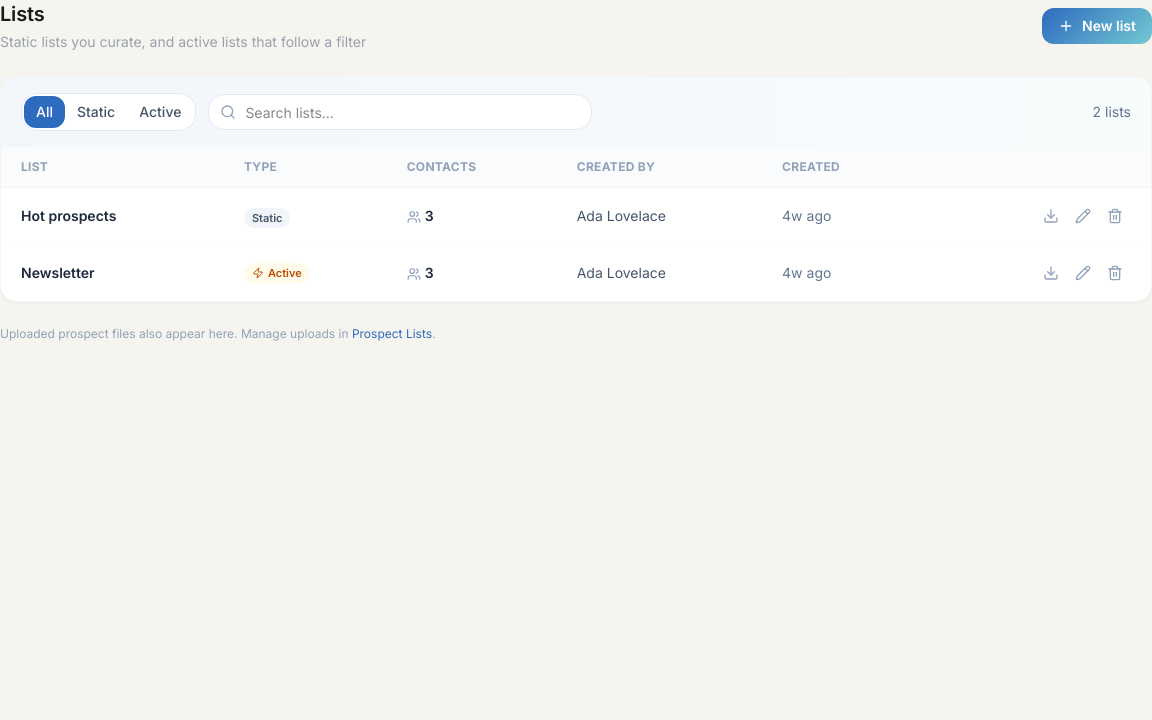
Test: Lists page › opens the new-list dialog
The width and height of the screenshot is (1152, 720).
Expected: the text "Hot prospects" is shown, [21,207,116,224]
Click the button "New list" at (1097, 26), box [1042,8,1151,44]
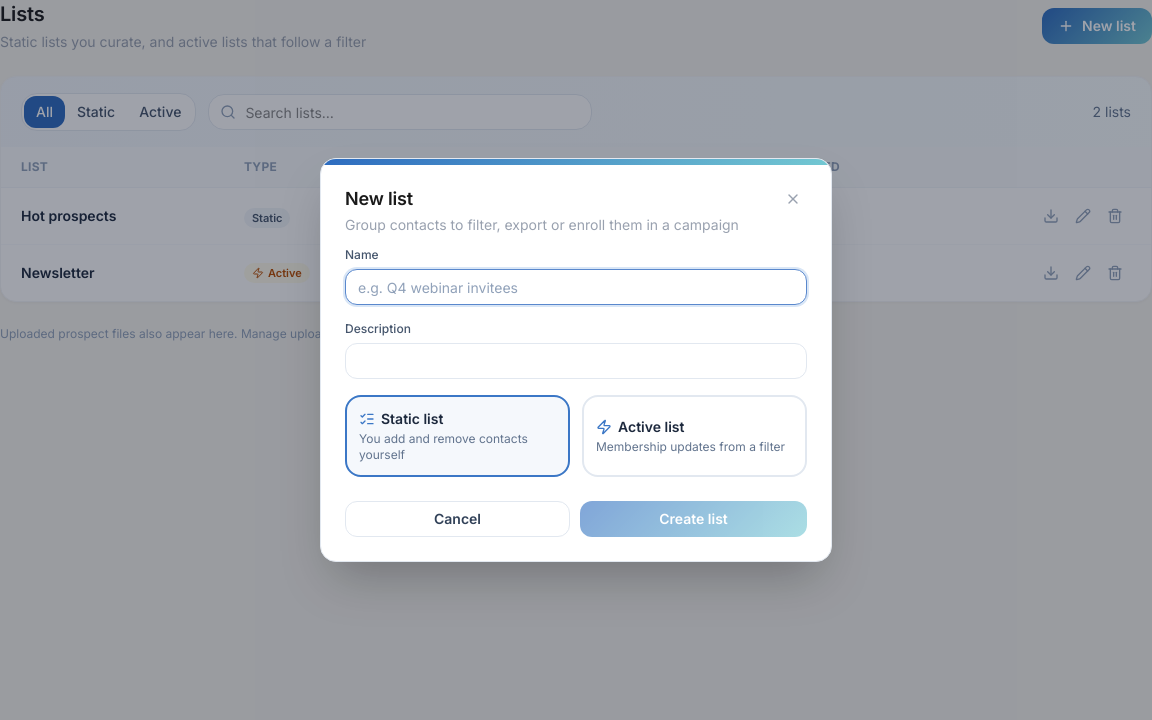
Result: the heading "New list" is shown at [345,188,413,209]
